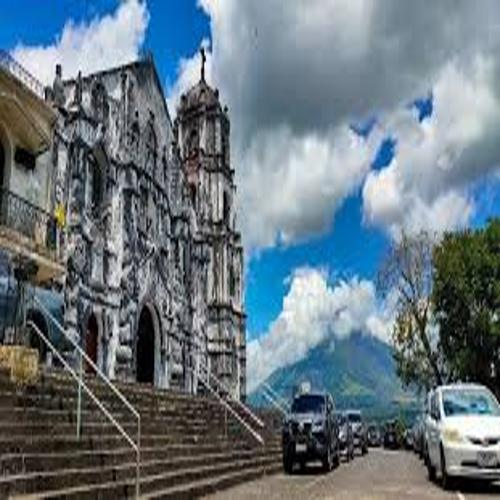Daraga Church: (48, 31, 257, 412)
